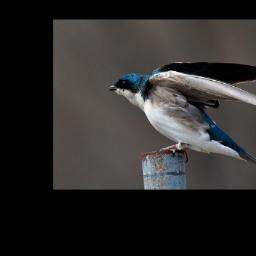Swallow: (106, 59, 256, 176)
